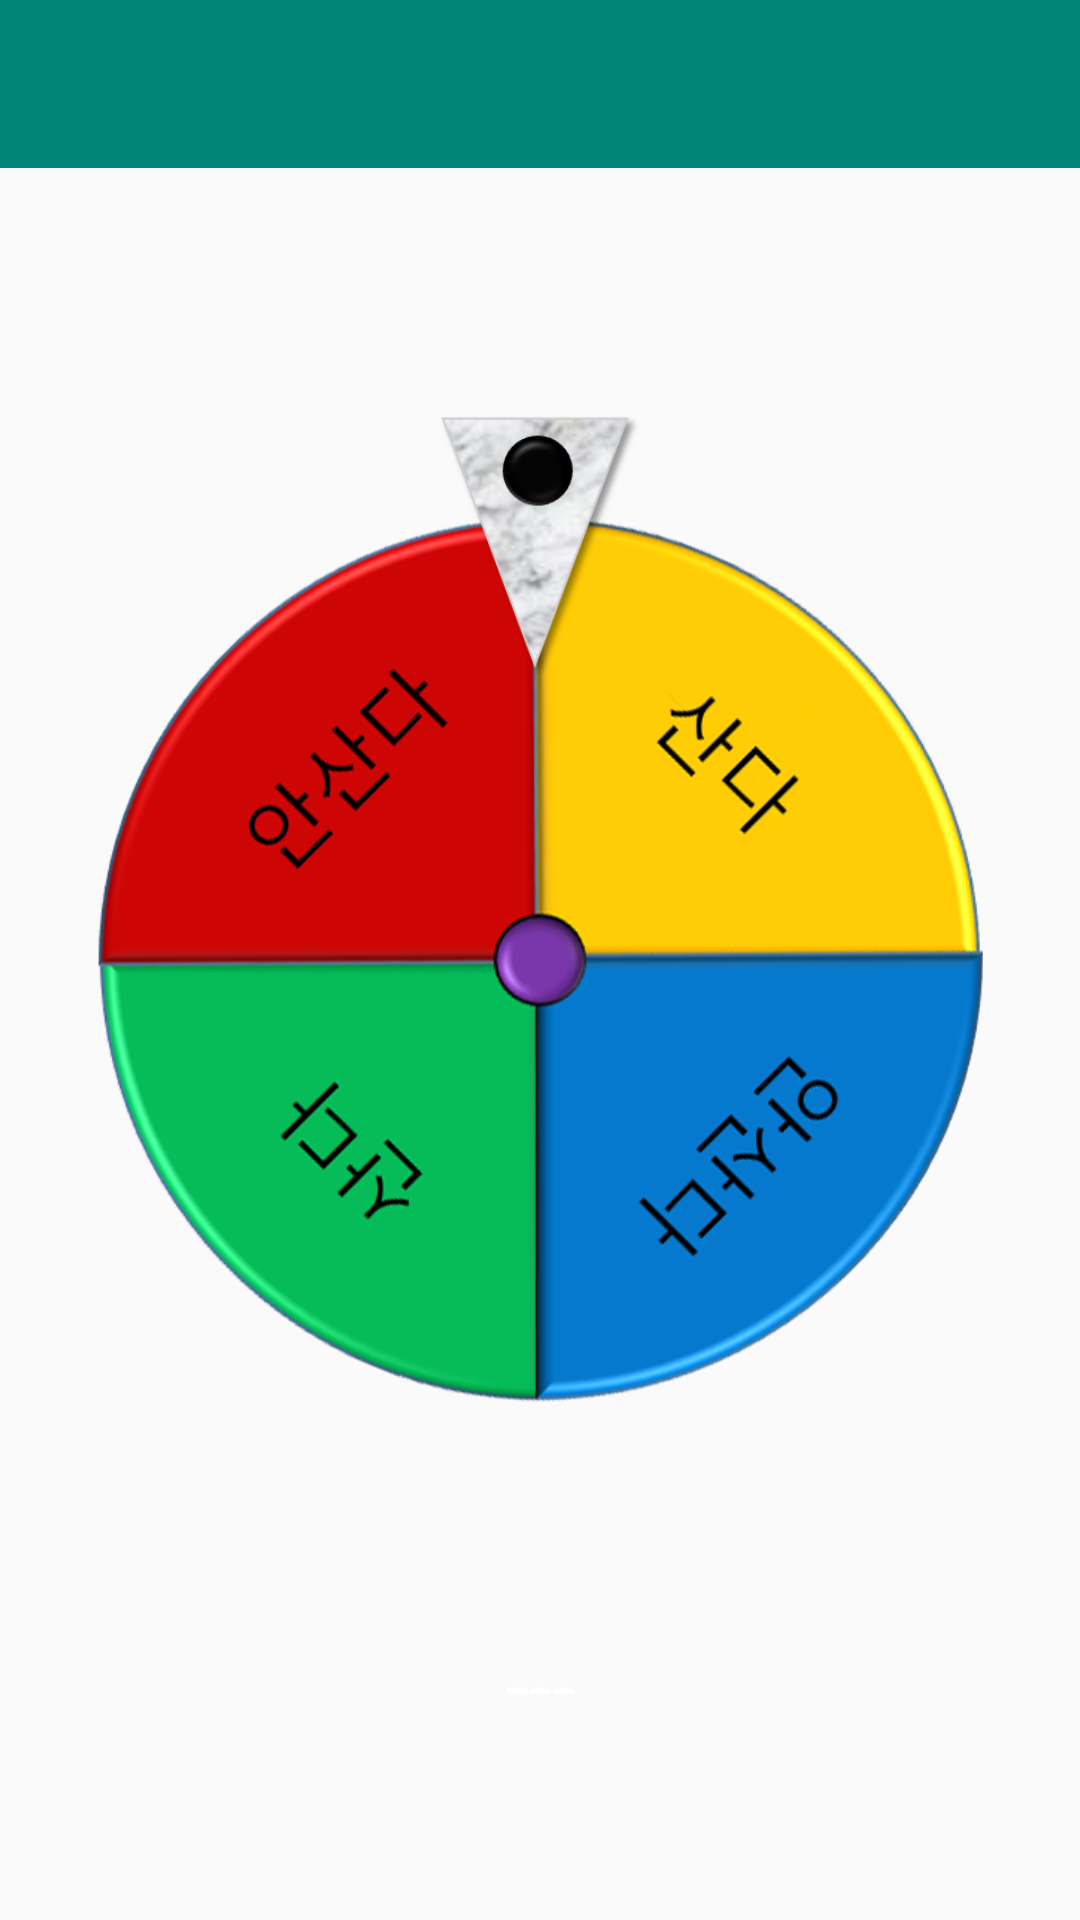

Where to tap for icons on this 1080x1920 app screen, as (x=x, y=y):
needle: (x=540, y=548)
